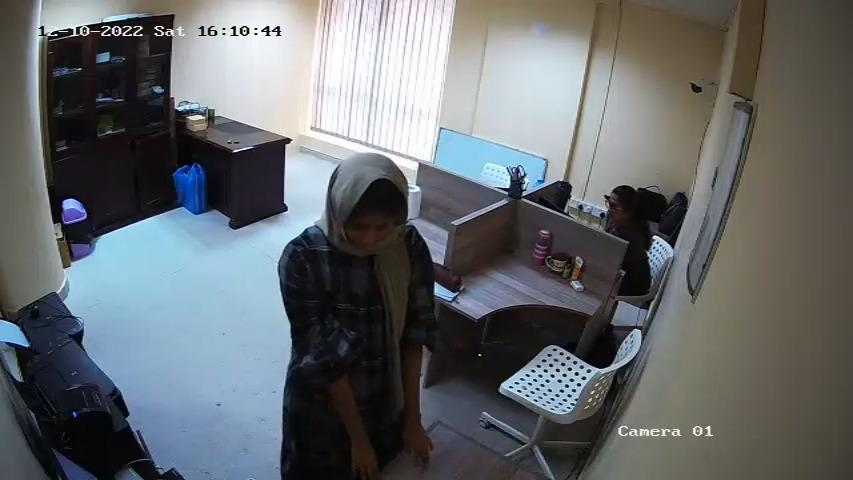no_gloves: (345, 433, 384, 480), (401, 414, 436, 460)
